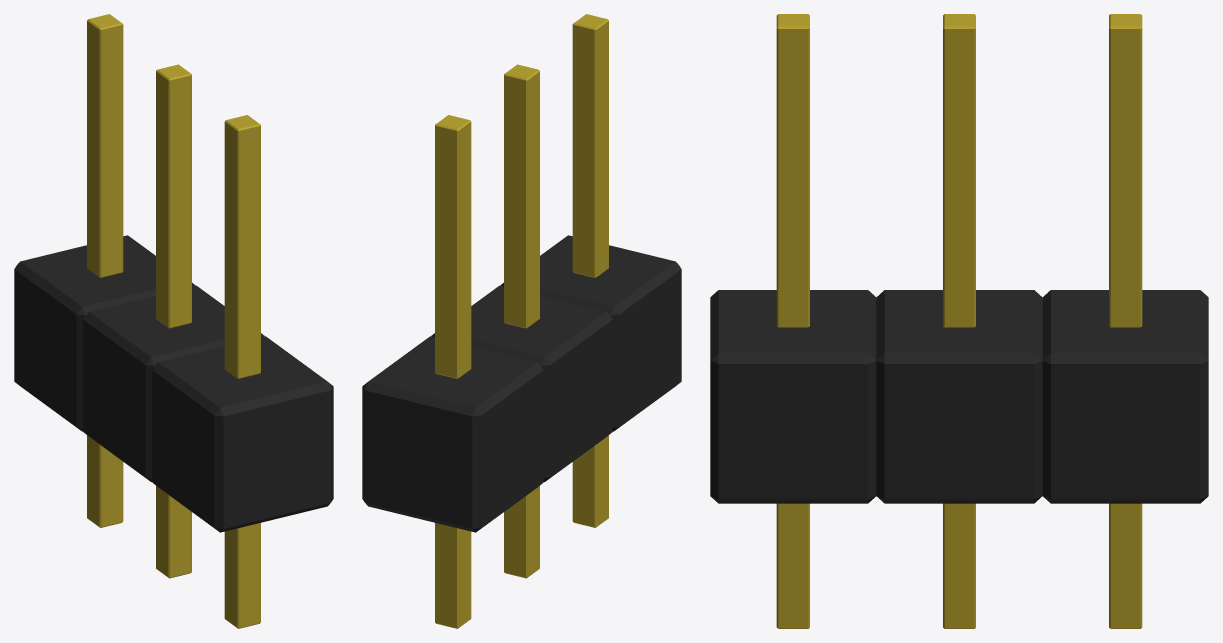
Rendered from 3SIP100.glb.
3 renders of one model, left to right at view 1: azimuth 30°, elevation 25°; view 2: azimuth 150°, elevation 25°; view 3: azimuth 270°, elevation 25°, orthographic. The views are drawn at different scales.
Parts seen in each view (by area): view 1: Plane; view 2: Plane; view 3: Plane.
Part boxes in pixels (x1,y1,x2,y2): Plane: [14, 14, 333, 628]; Plane: [362, 14, 681, 628]; Plane: [710, 14, 1208, 628].
Bounding box in the file's own units: 0.00254 × 0.0102 × 0.00762.
